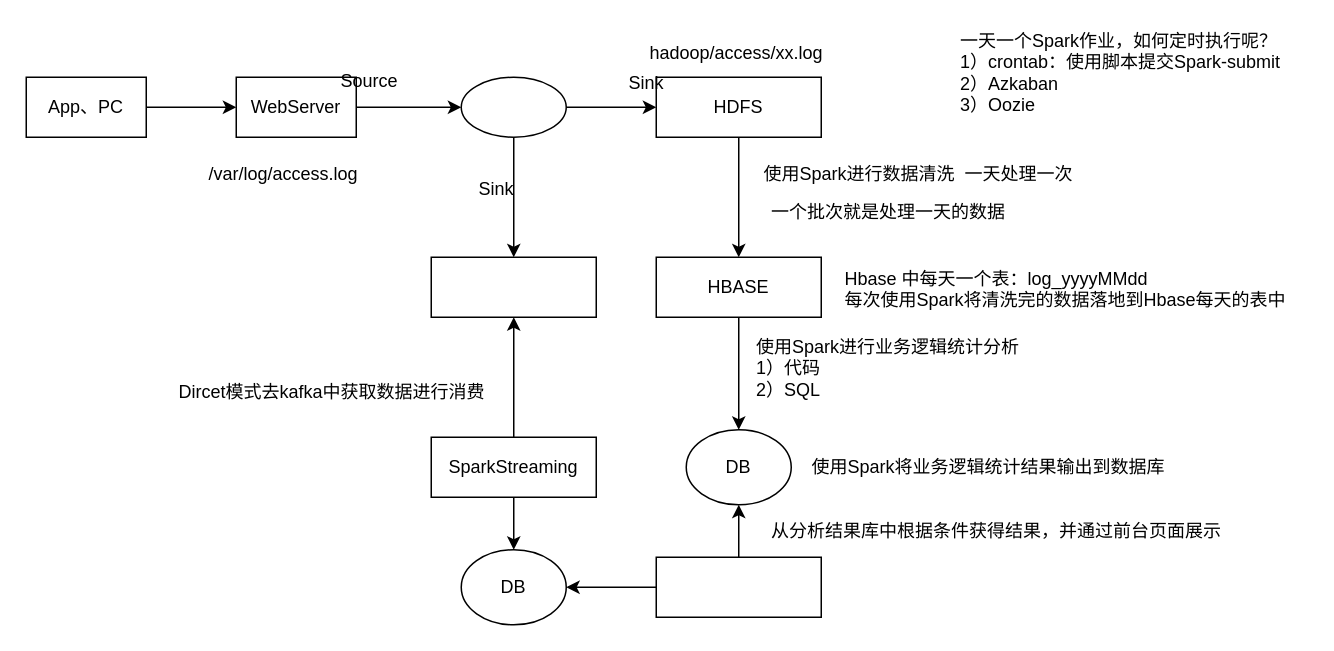
Image size: 1334x651. Some labels were removed from this diagram. Each missing label, with the box of its shape:
agent: (460, 76, 566, 137)
Kafka：消息队列: (430, 256, 596, 317)
UI: (655, 556, 821, 617)
